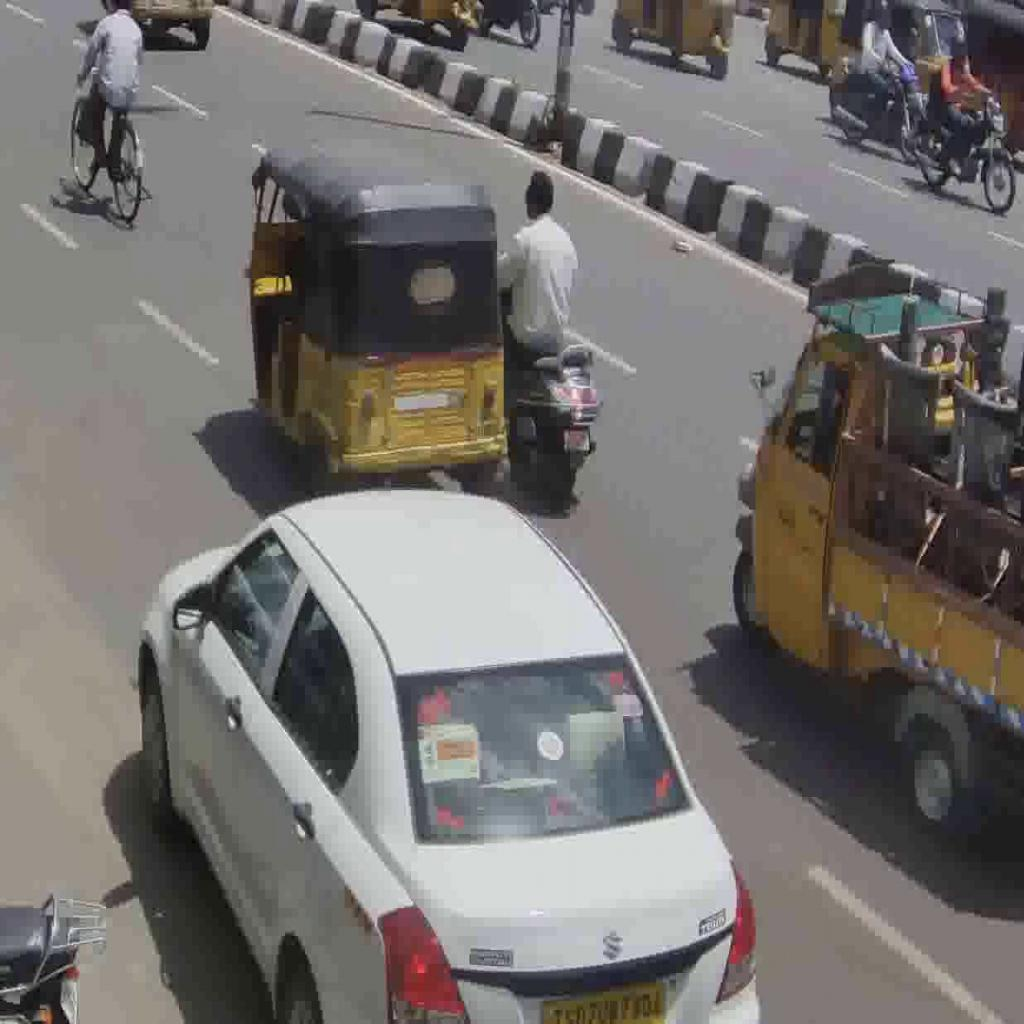helmet: (506, 335, 604, 502)
